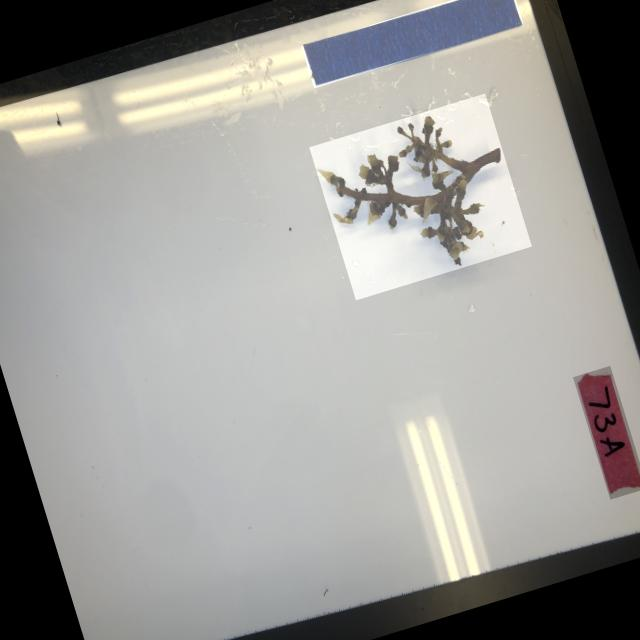index: (571, 365, 640, 499)
measure_label: (300, 0, 522, 88)
rachis_cluster: (308, 93, 531, 300)
